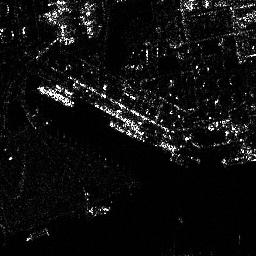ship: (150, 136, 200, 164), (35, 84, 74, 107), (108, 119, 144, 142)
